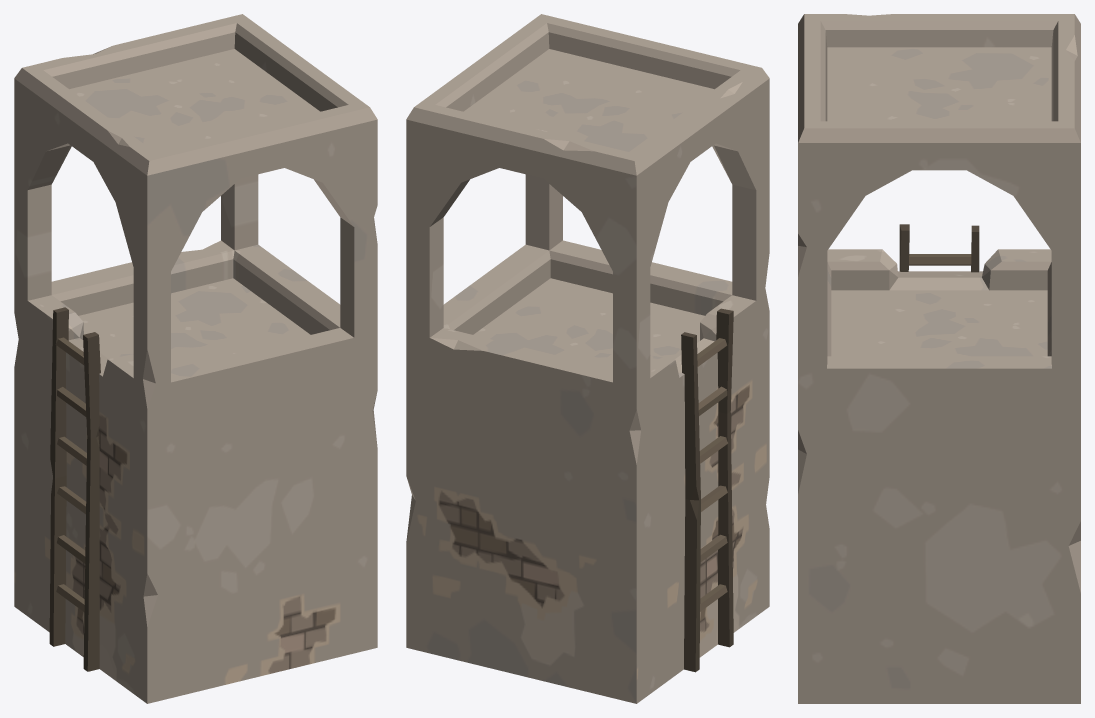
File: SM_Bld_Village_Village_House_Tower_01.fbx
3 views of the same model, side by side, from view 1: azimuth 30°, elevation 25°; view 2: azimuth 150°, elevation 25°; view 3: azimuth 270°, elevation 25° (orthographic). The views are drawn at different scales.
Parts seen in each view (by area): view 1: SM_Bld_Village_Village_House_Tower_01; view 2: SM_Bld_Village_Village_House_Tower_01; view 3: SM_Bld_Village_Village_House_Tower_01.
Boxes of the visible parts, x1,y1,x2,y2 form: SM_Bld_Village_Village_House_Tower_01: [14, 14, 377, 703]; SM_Bld_Village_Village_House_Tower_01: [406, 14, 769, 703]; SM_Bld_Village_Village_House_Tower_01: [798, 14, 1080, 703].
Size of the model in its own units: 257 by 547 by 245.
